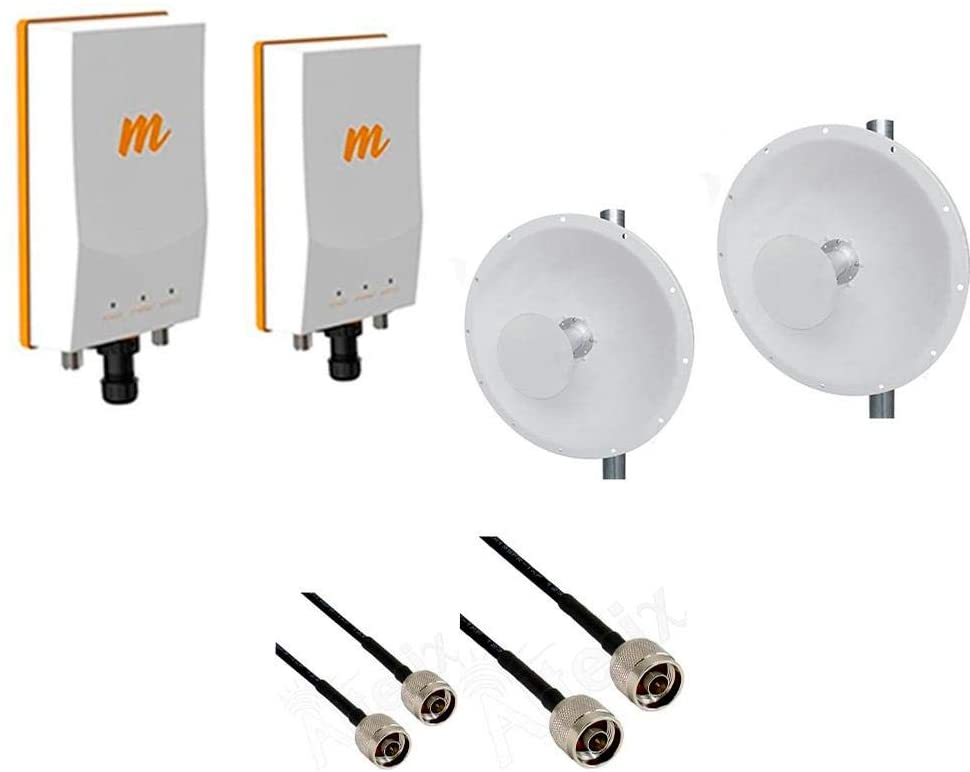ba: (701, 102, 966, 456), (446, 184, 702, 491)
